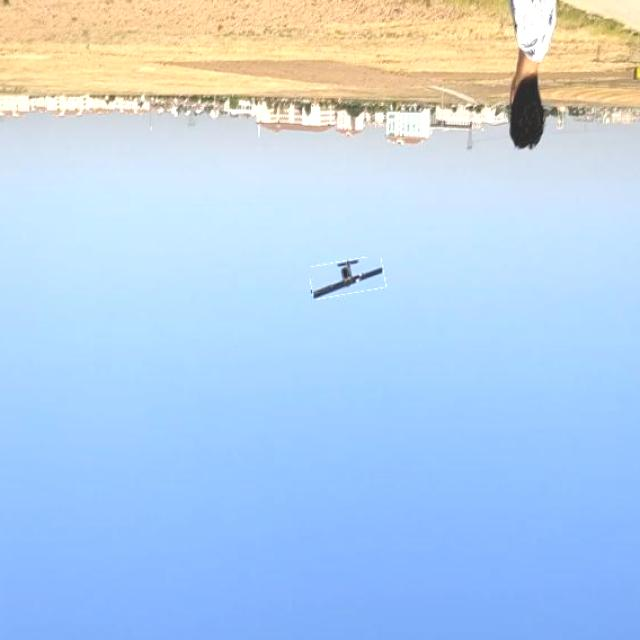plane: (310, 256, 389, 300)
